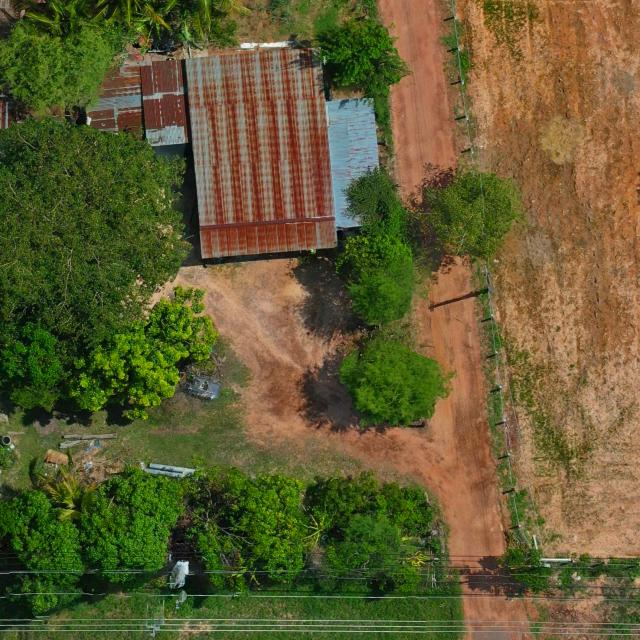Tree: (0, 116, 194, 333), (66, 280, 218, 422), (184, 466, 306, 589), (314, 468, 432, 592), (80, 464, 186, 580), (339, 337, 458, 428), (0, 488, 85, 615), (0, 17, 113, 112), (422, 168, 516, 259), (318, 21, 414, 94), (340, 234, 414, 328), (0, 321, 65, 414), (32, 462, 108, 522), (66, 0, 174, 33), (162, 0, 258, 36), (24, 0, 94, 36)
